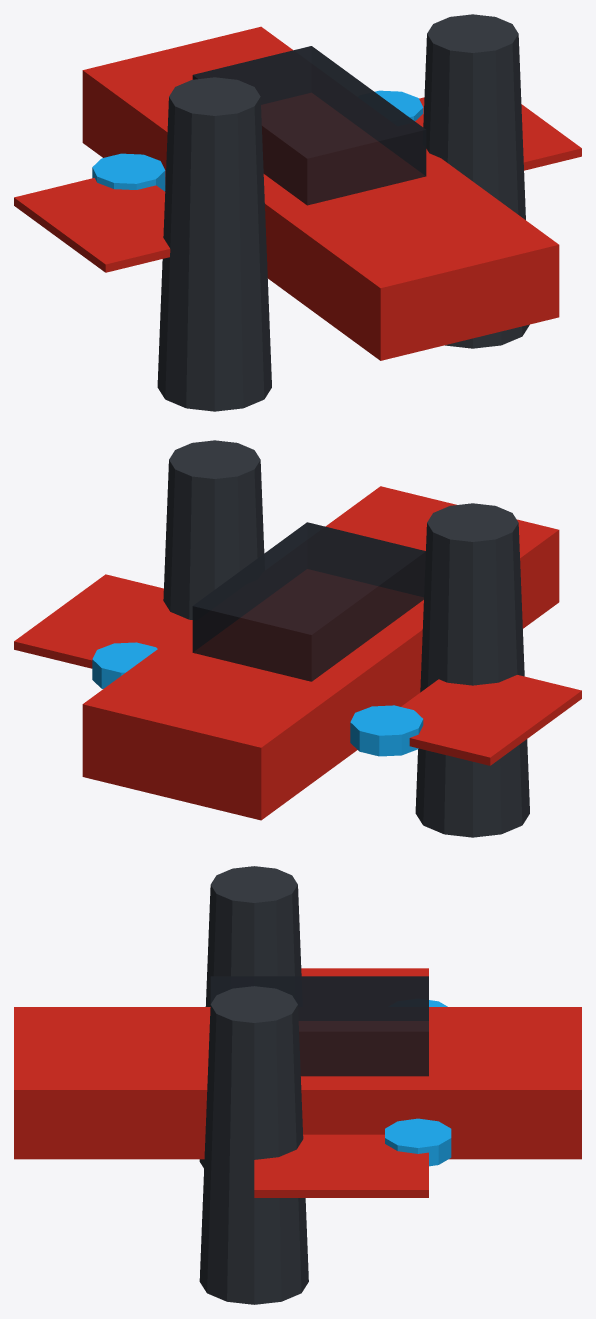
Rendered from hover_speeder.obj.
3 views of the same model, one above another, from view 1: azimuth 30°, elevation 25°; view 2: azimuth 150°, elevation 25°; view 3: azimuth 270°, elevation 25° (orthographic). The views are drawn at different scales.
Parts seen in each view (by area): view 1: HoverSpeeder; view 2: HoverSpeeder; view 3: HoverSpeeder.
Part boxes in pixels (x1,y1,x2,y2): HoverSpeeder: [14, 14, 581, 411]; HoverSpeeder: [14, 440, 581, 837]; HoverSpeeder: [14, 866, 581, 1304].
Bounding box in the file's own units: 2.4 × 1.4 × 2.6.
